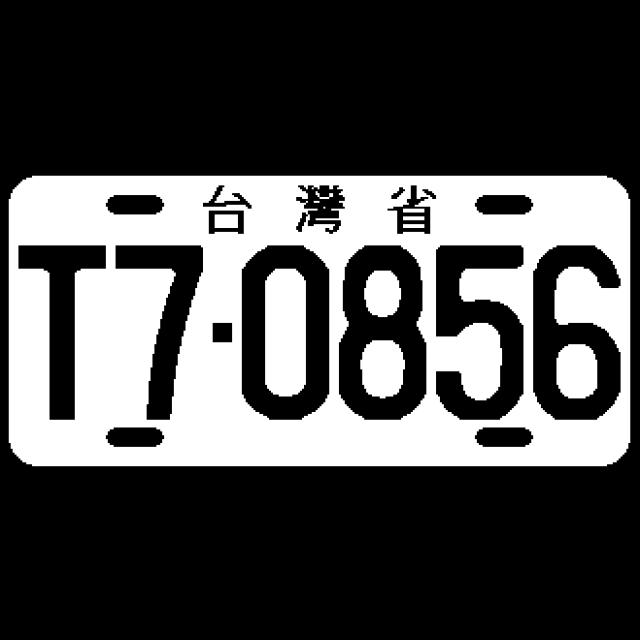plate: (7, 174, 633, 468)
